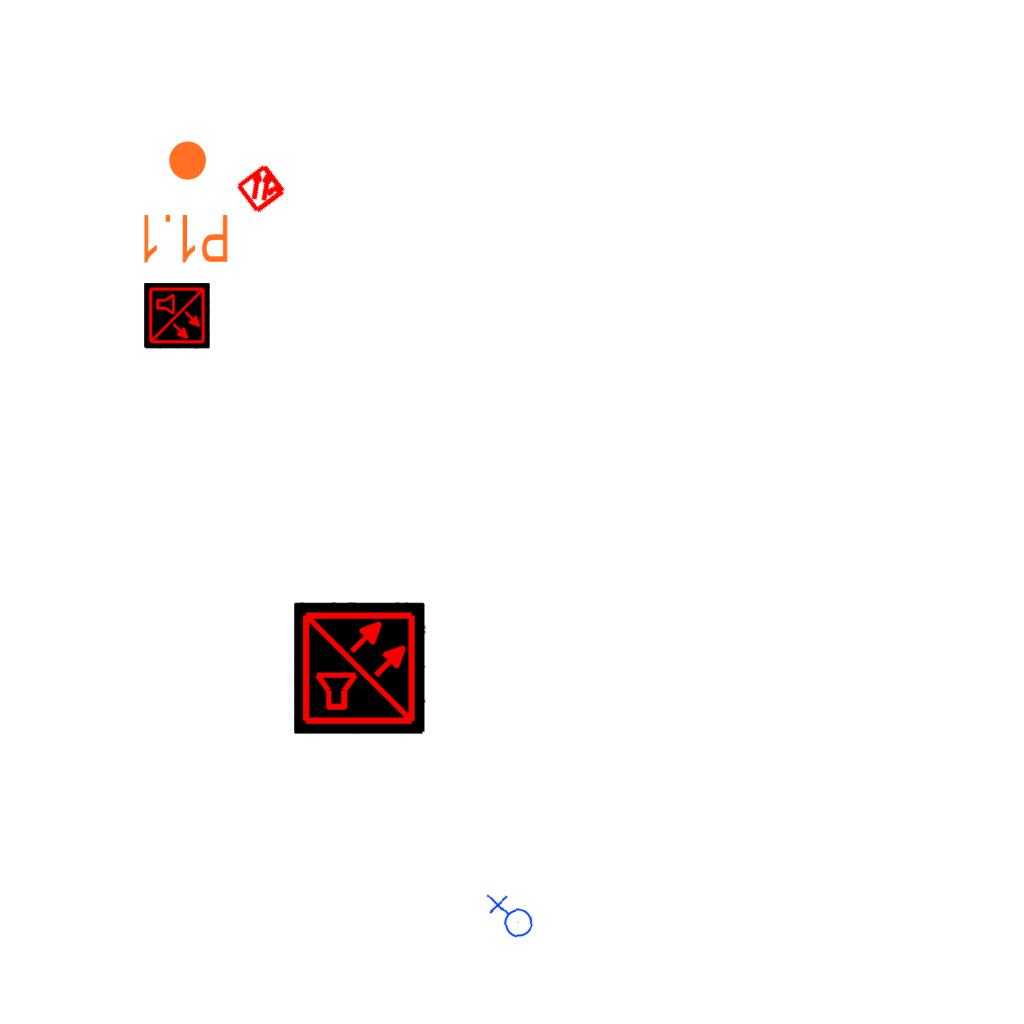Downlight_LED_Einbauleuchten_Flur: (138, 138, 231, 266)
Elektroanschluss_allgemein_230V_Geraeteanschlussdose_230V: (484, 891, 535, 944)
OKW_Multisensormelder_(Kombination_optischer_Rauch-Kahlenmonoxid_Waerme-Melder): (294, 602, 426, 734), (144, 283, 210, 349)
OT_Multisensormelder_(Kombination_RMO_WMD): (222, 148, 302, 228)
